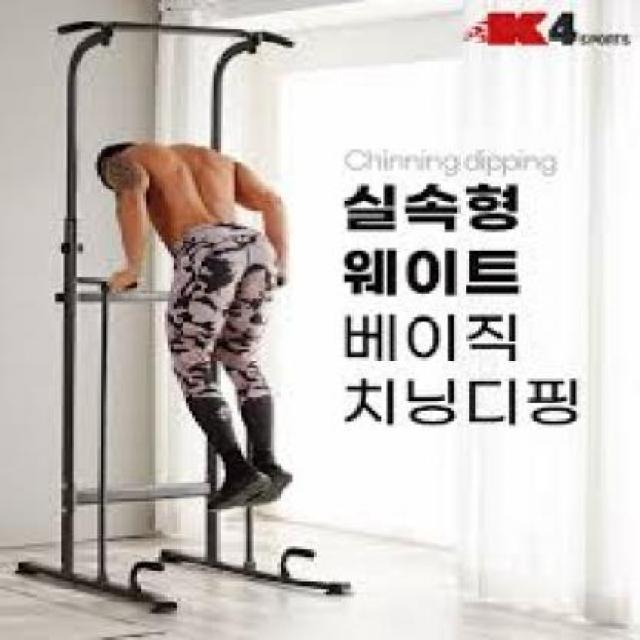chinning dipping: (18, 17, 344, 617)
